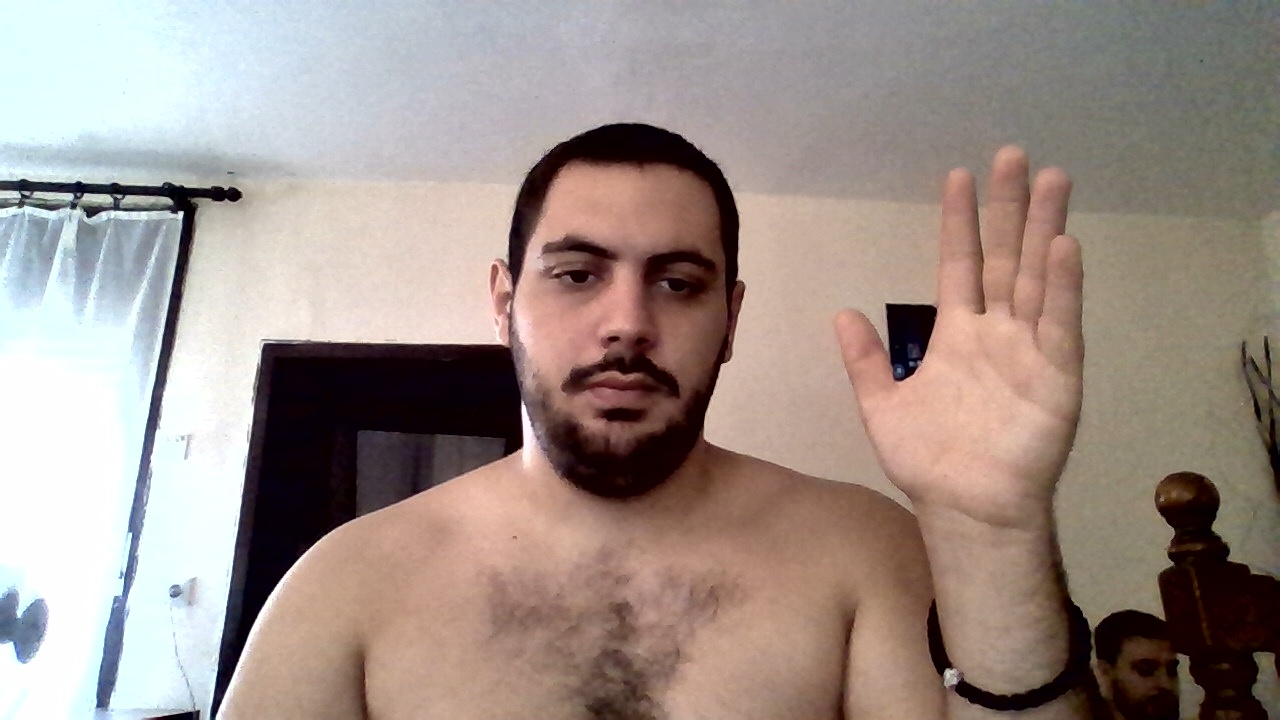palm: (833, 144, 1114, 508)
